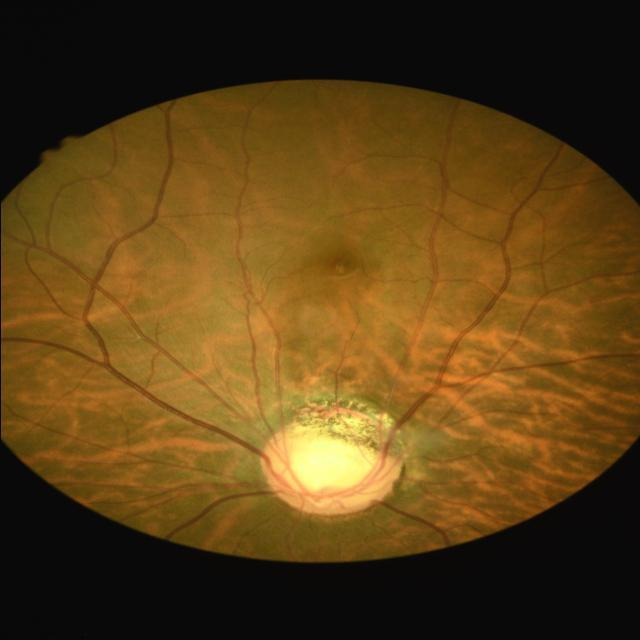cup: (272, 442, 376, 500)
disk: (258, 432, 402, 516)
